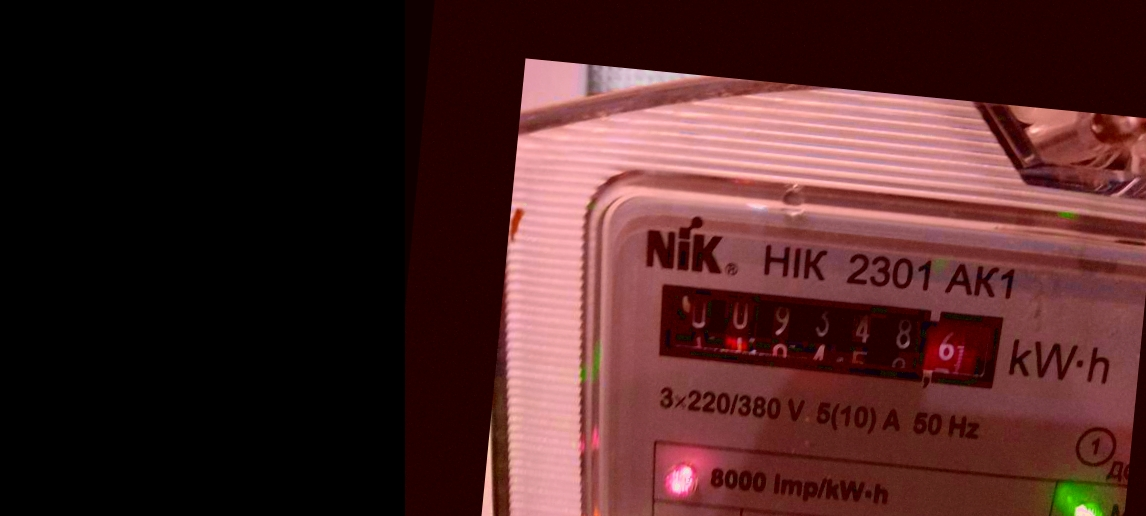0: (728, 296, 752, 334), (687, 294, 710, 331)
3: (810, 305, 835, 339)
4: (849, 308, 873, 347)
6: (935, 327, 960, 363)
8: (892, 315, 915, 350)
9: (771, 301, 792, 336)
screen: (631, 267, 1024, 405)
